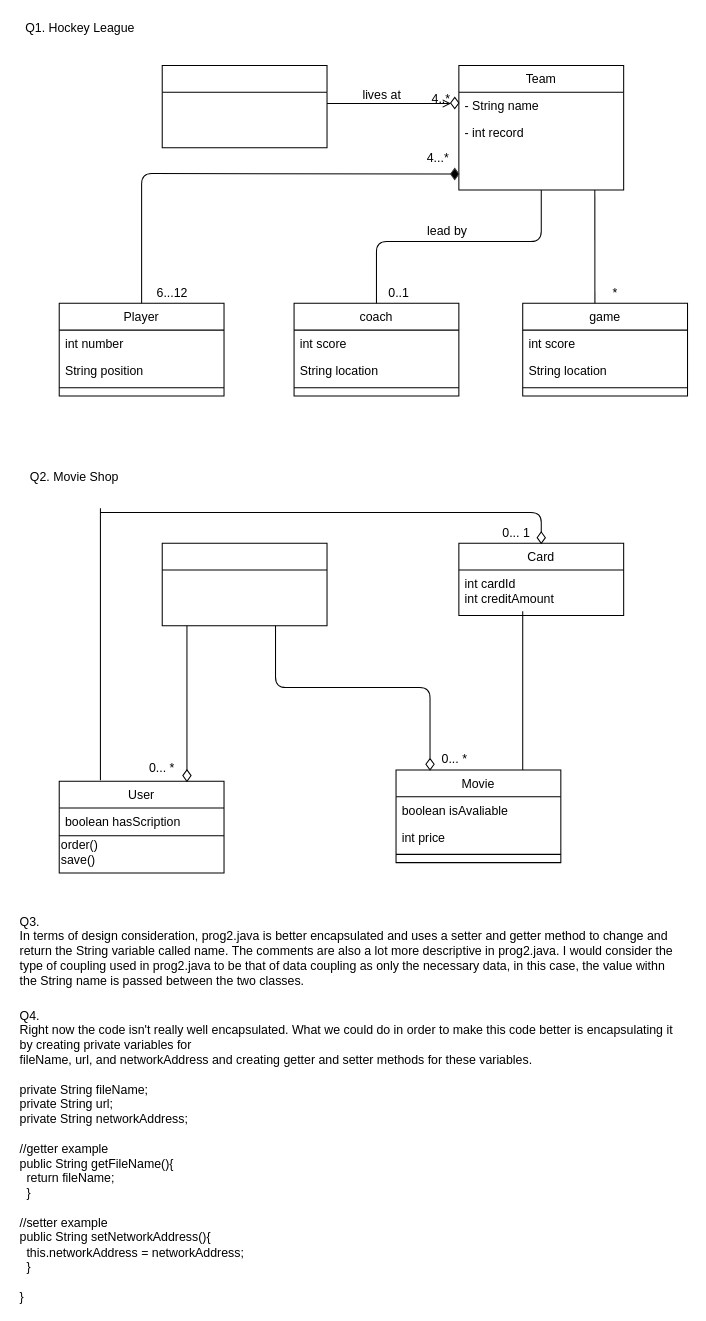
This 706x1321 diagram has some shape labels left out. The shapes that lost their labels are listed below. From the top down, each one's centre as x and y in pixels, then its label:
At [244,106]: "League".
At [244,584]: "Movie Shop".
